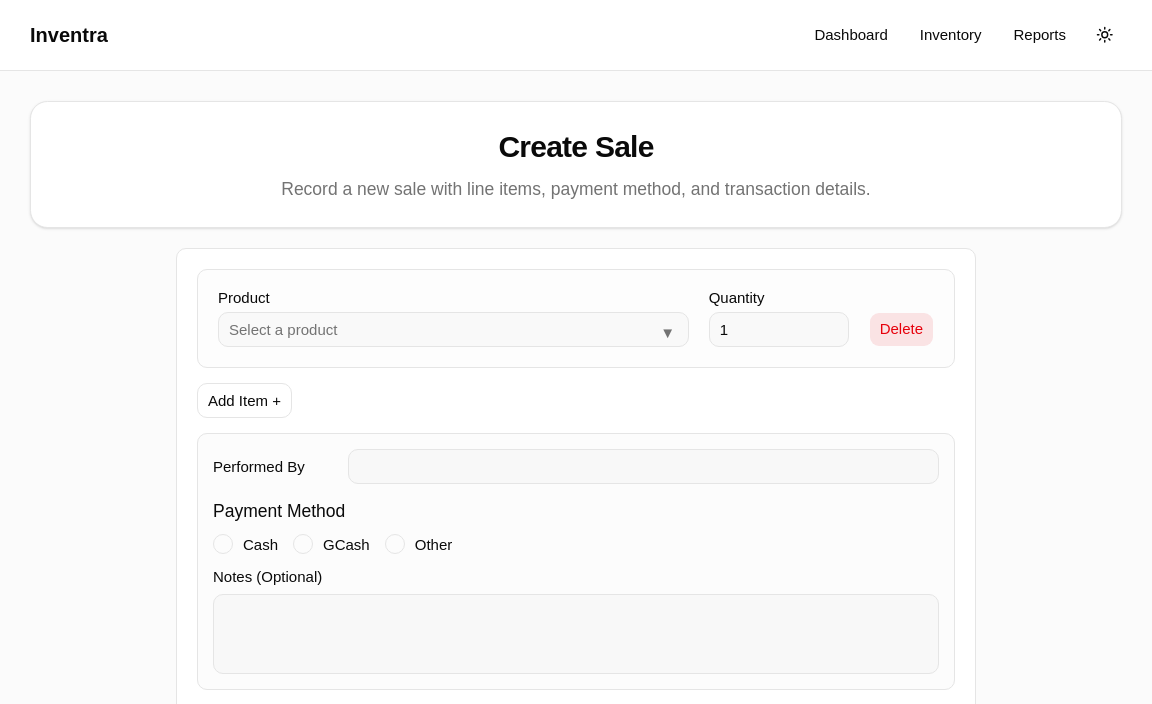
Sales Create Page Tests › clicking add item renders additional sale rows
expect the number of elements named "sale item" is 1: met, box [197,269,955,368]
What coordinates should you click on to do the following:
click the button "Add Item +"
I would click on:
 (244, 401)
Its box is [197,384,292,418].
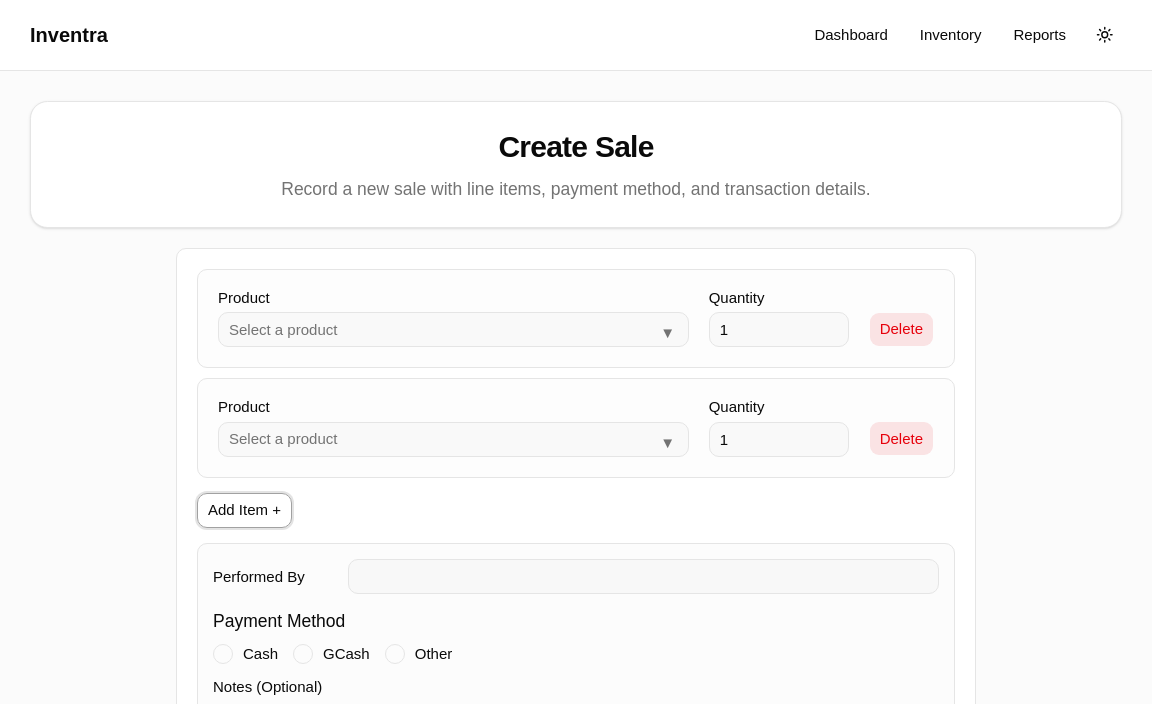
expect the number of elements named "sale item" is 2: met, box [197,269,955,368]; [197,378,955,478]
